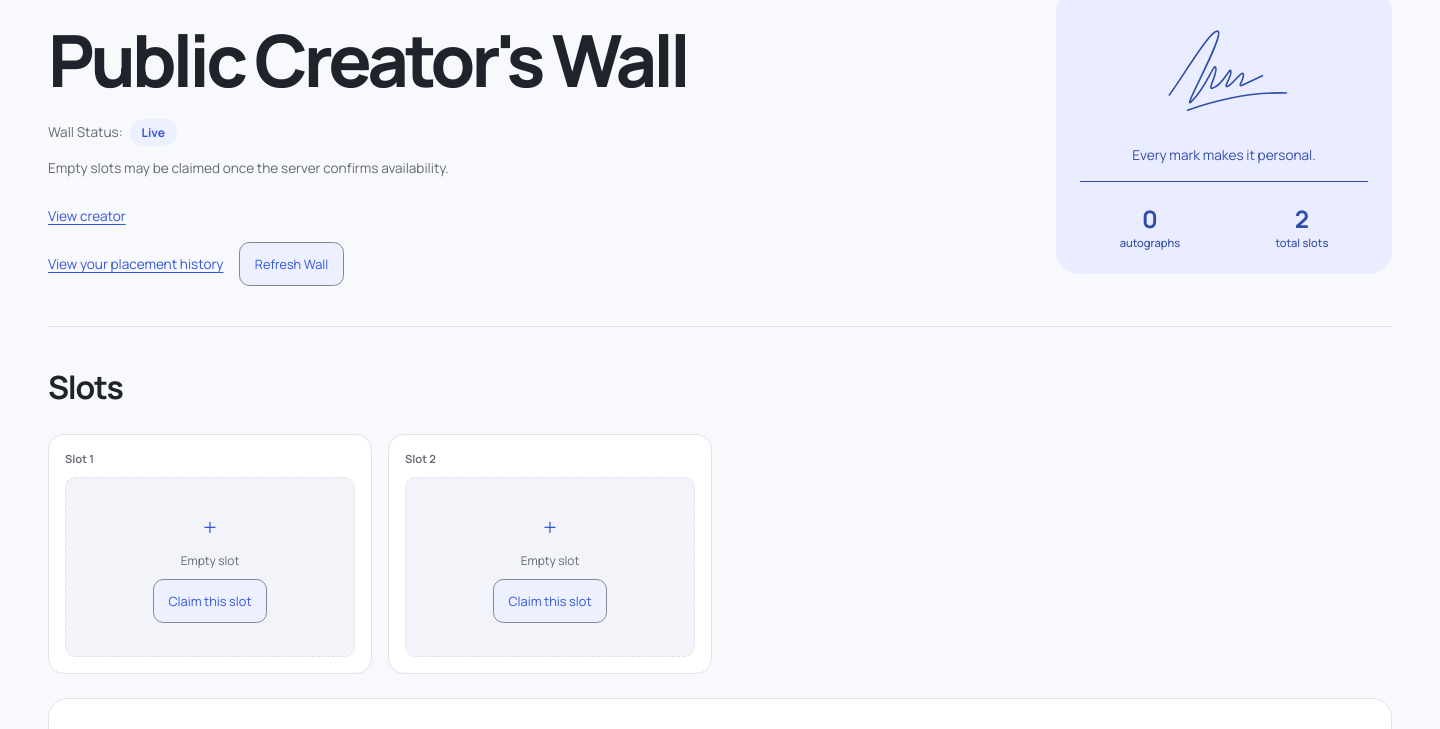
Test: public Wall and Free Claim UX › treats exact replay 200 as success
The image size is (1440, 729).
Click the 1st button "Claim this slot": (210, 601) x1=153 y1=579 x2=267 y2=623
(page scrolled)
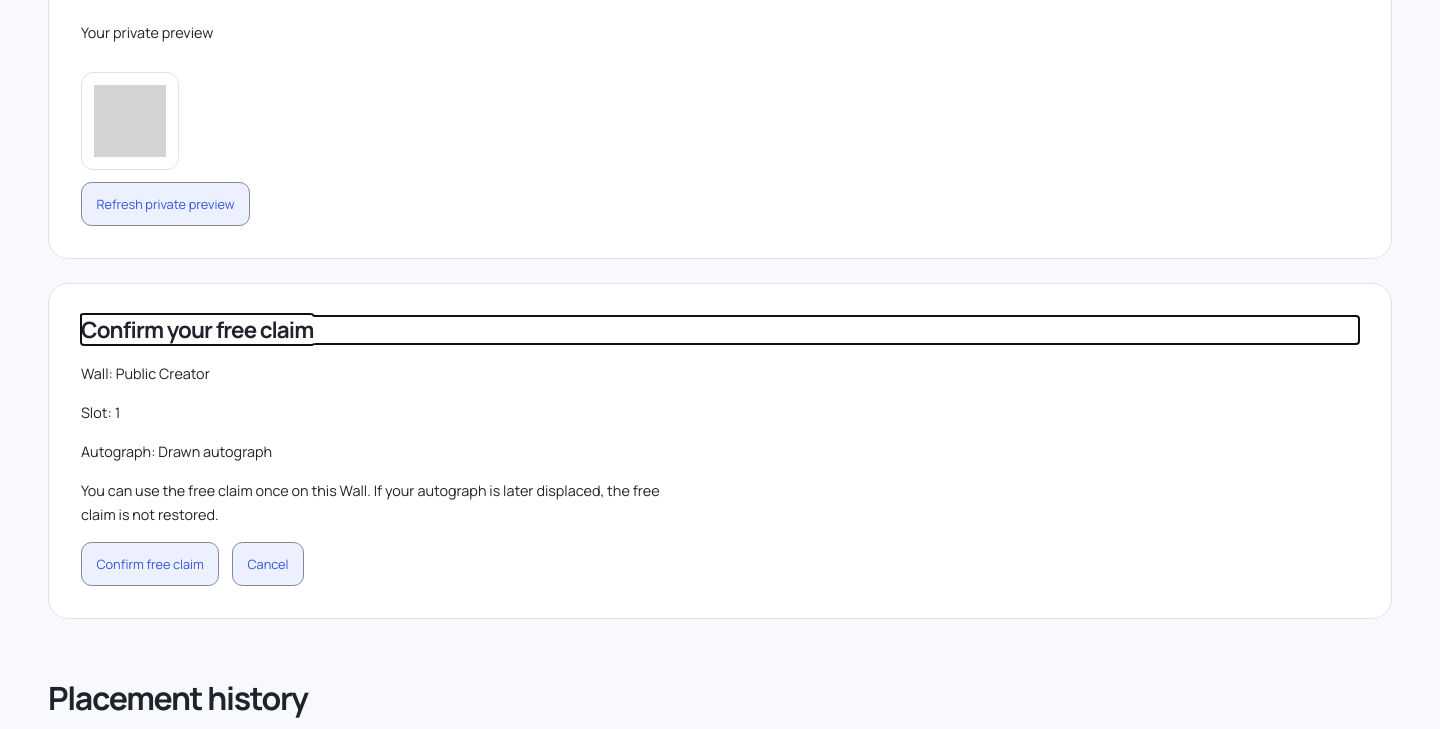
Click the button "Confirm free claim": (150, 564) x1=81 y1=542 x2=219 y2=586
(page scrolled)
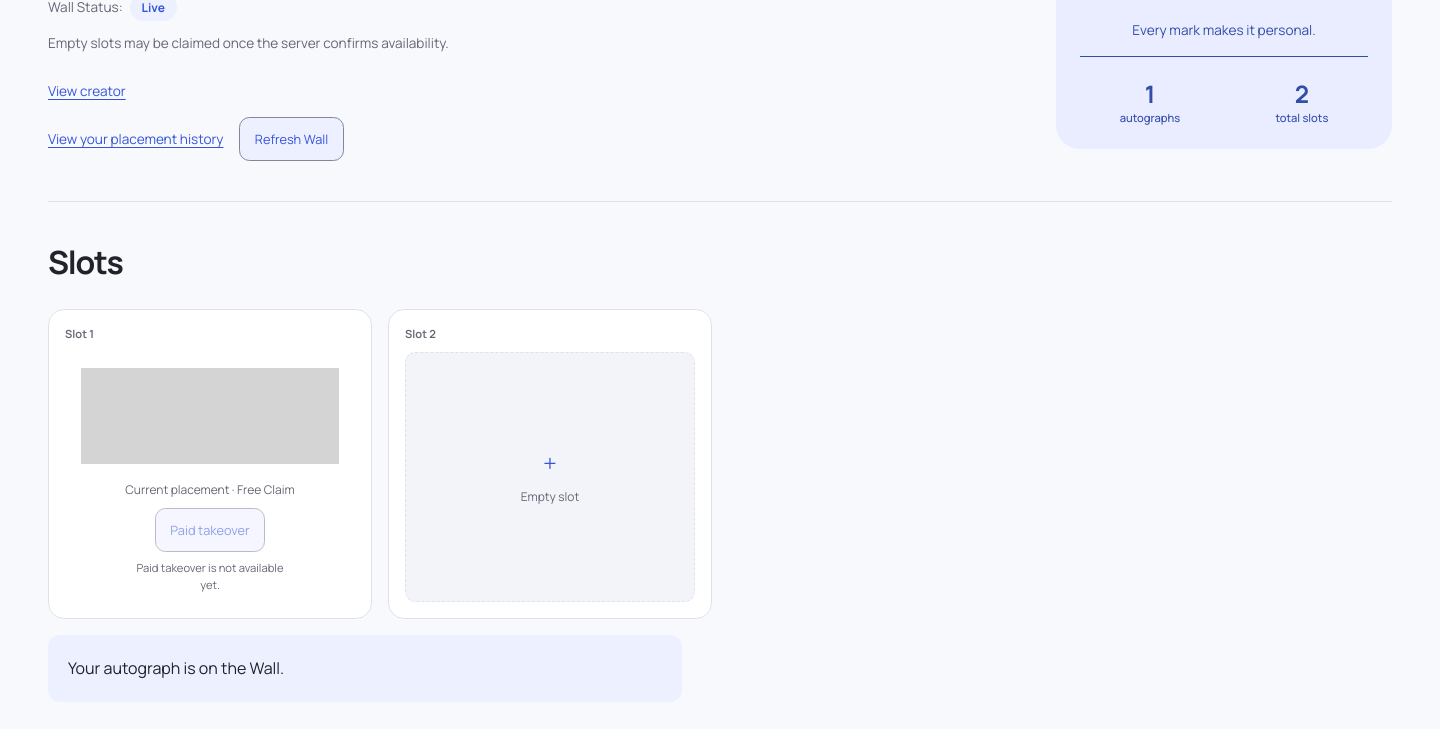
Now the text "Your autograph is on the Wall." is shown, box x1=48 y1=635 x2=682 y2=702
